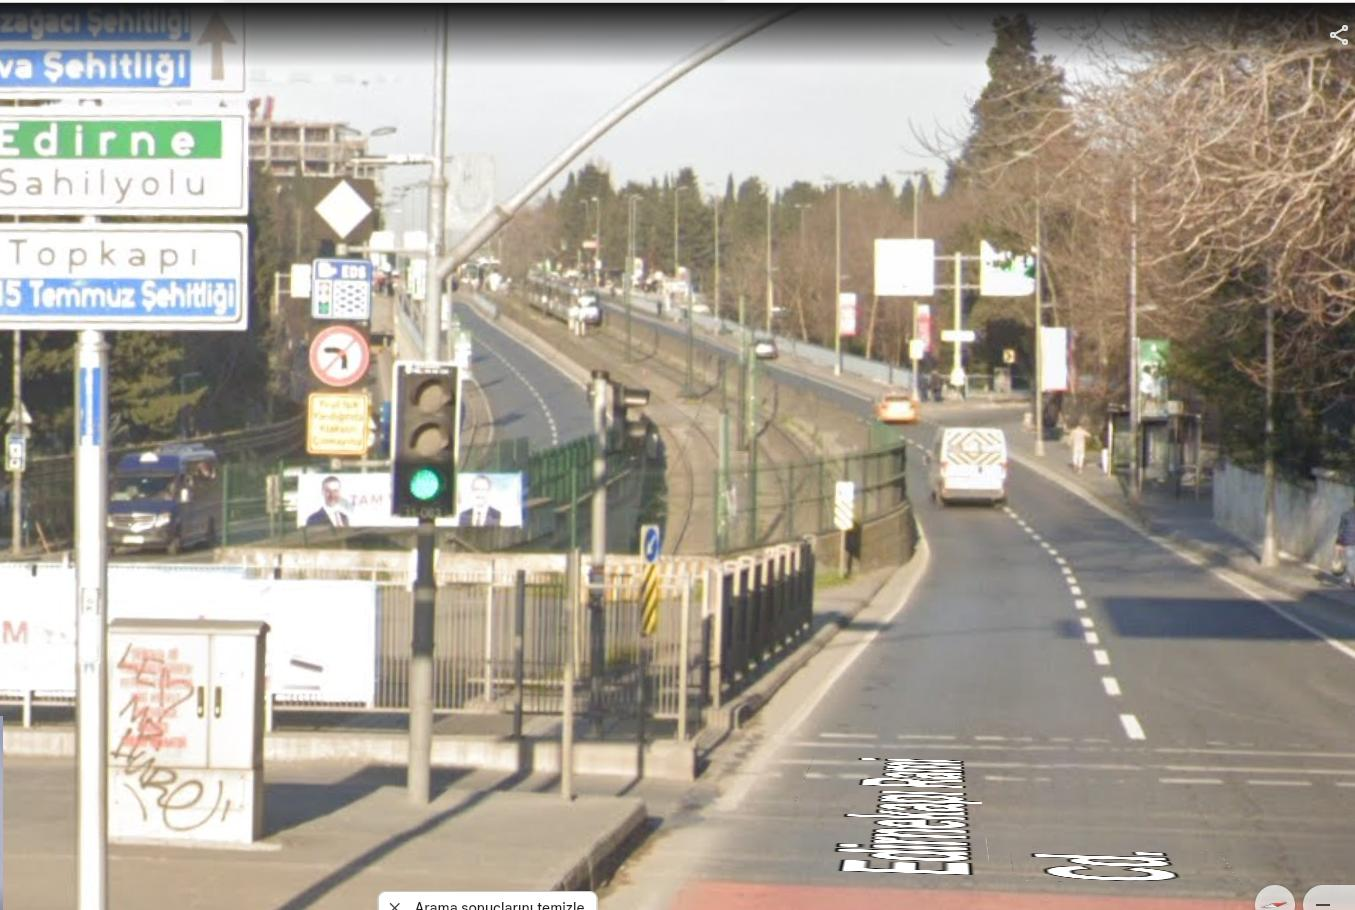greenlight: (400, 366, 453, 505)
leftturnsareforbidden: (313, 328, 369, 381)
